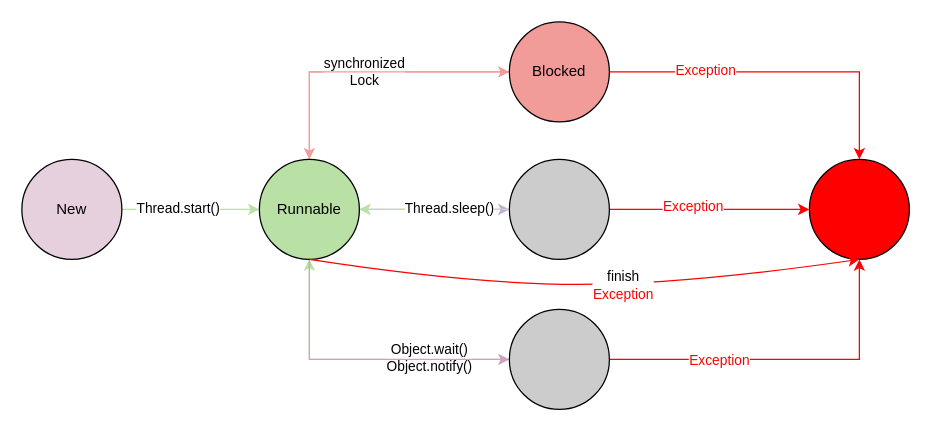
Image size: 931x431. Some labels were removed from this diagram. Here are the shapes that lost their labels. From the top down, the centre of each, then its label:
(x=558, y=208): Time Waiting
(x=558, y=358): Waiting
